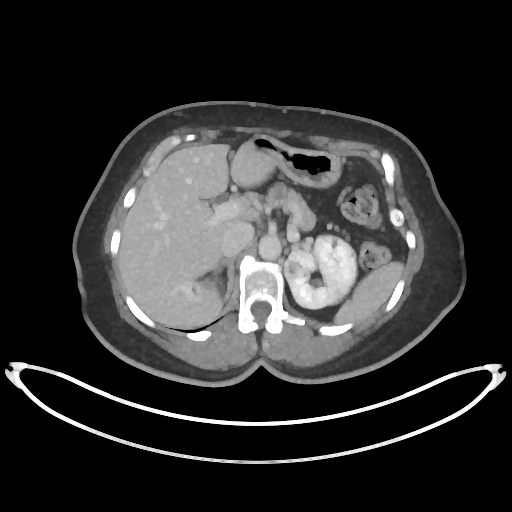Lesion: (282, 259, 305, 281)
